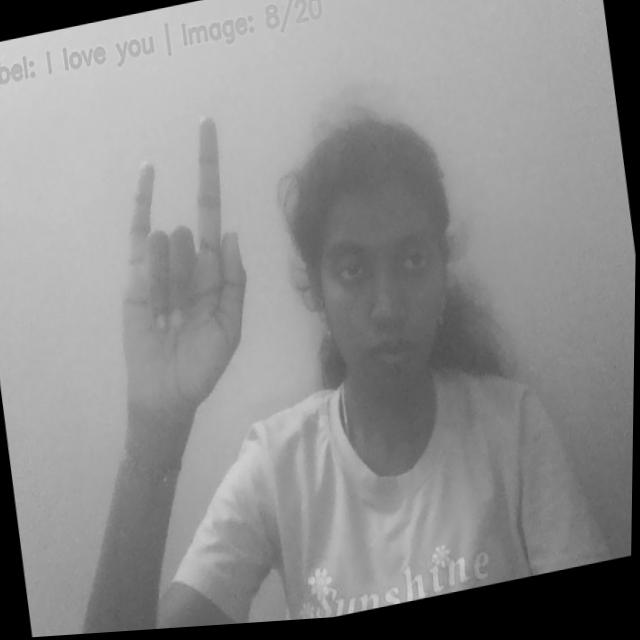I love you: (89, 108, 273, 433)
